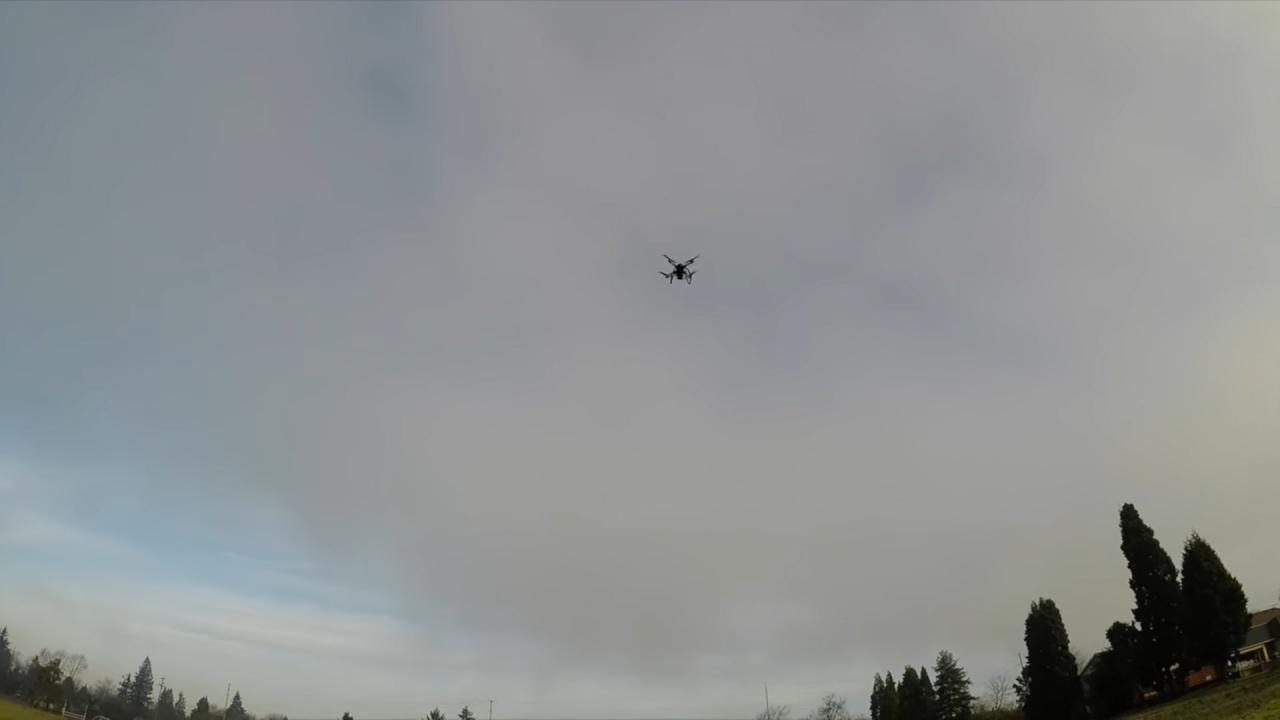Drone: (651, 246, 712, 295)
